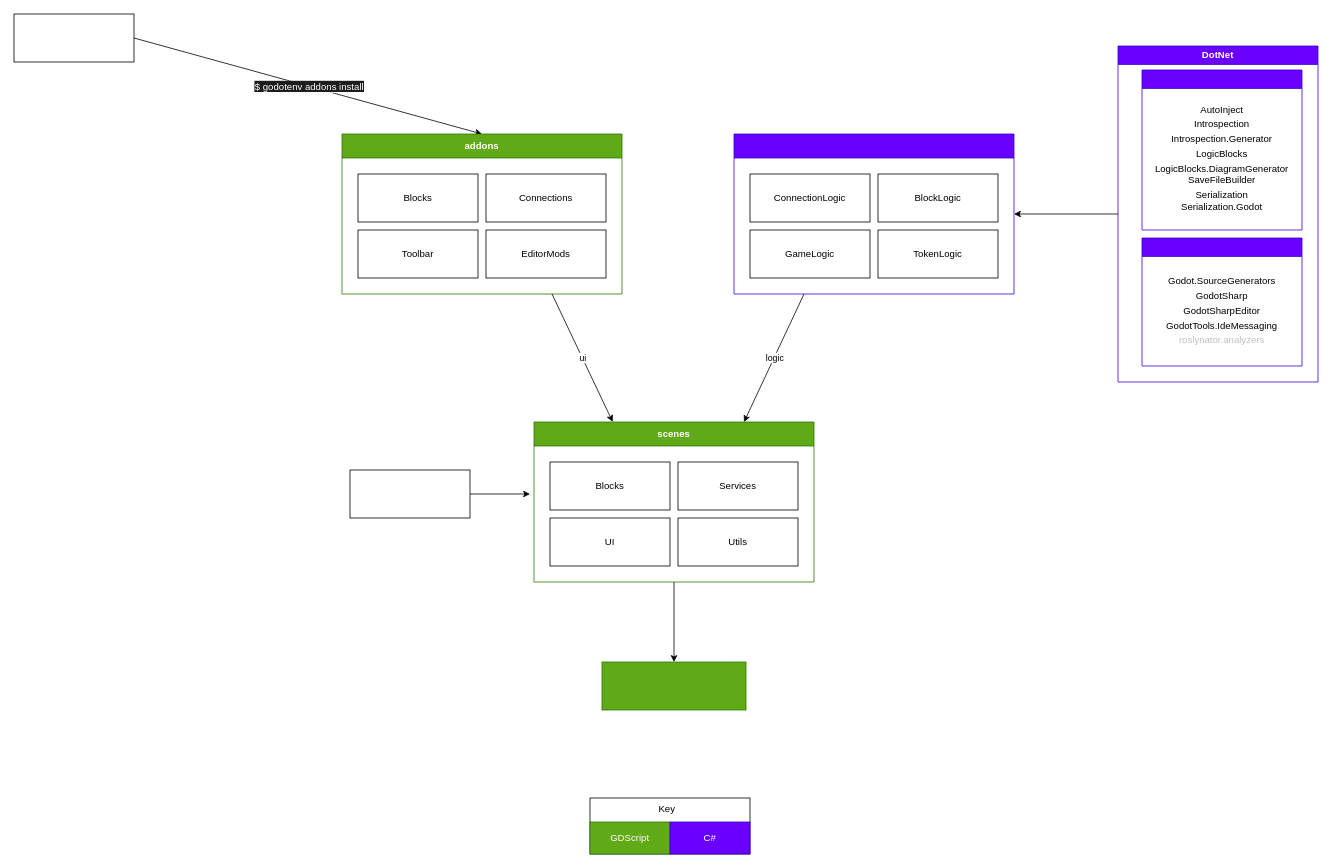
The diagram is 1332 pixels wide and 868 high, and some of its shapes have lost their labels. The box of each missing label's shape, as (x1, y1, x2, y2) in pixels:
Additional packages: (1141, 237, 1302, 366)
Addons.json: (13, 13, 134, 62)
Assets/: (349, 469, 470, 518)
ChickenSoft: (1141, 69, 1302, 230)
LogicBlocks: (733, 133, 1014, 294)
Main: (601, 661, 746, 710)
